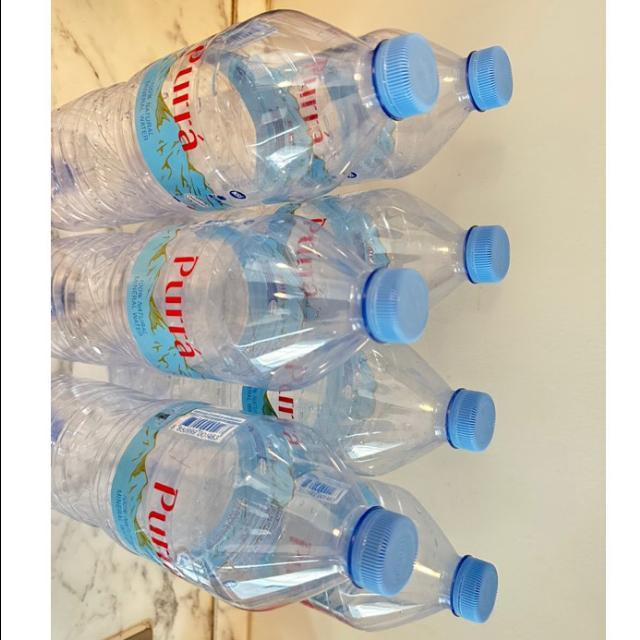PET Bottle: (38, 4, 437, 216), (47, 409, 411, 605), (46, 212, 434, 394), (363, 9, 552, 147), (357, 343, 511, 470), (416, 522, 514, 620)
